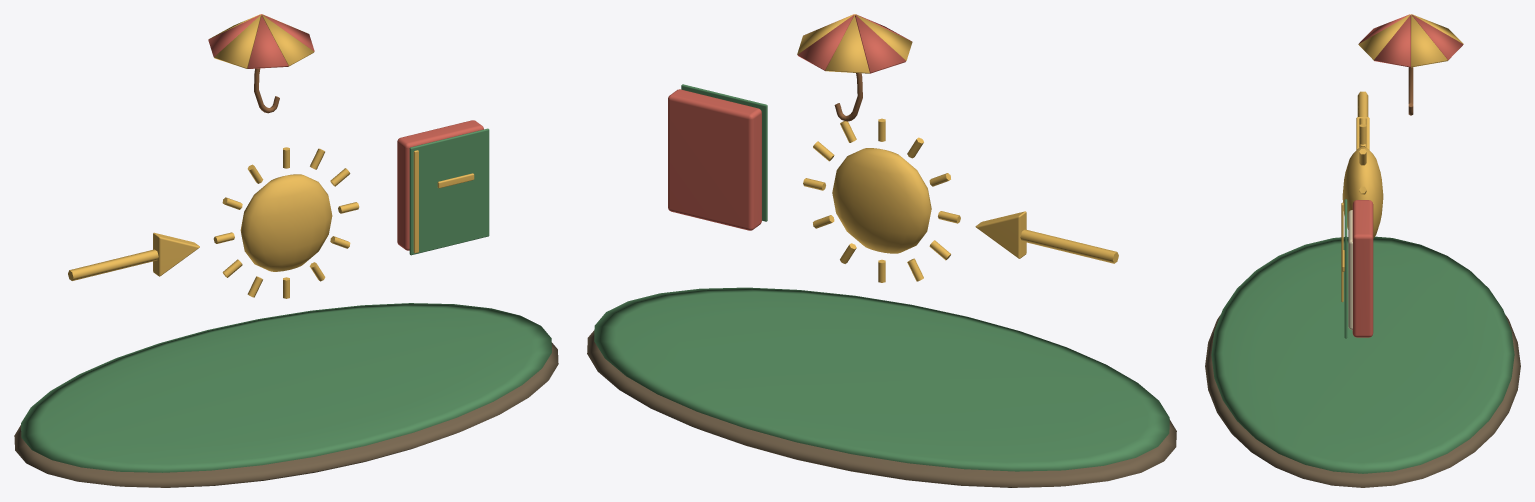
The model's file is complete-third-released-hot-fake-school.glb.
3 renders of one model, left to right at view 1: azimuth 30°, elevation 25°; view 2: azimuth 150°, elevation 25°; view 3: azimuth 270°, elevation 25°, orthographic. The views are drawn at different scales.
Visible parts, largest first — view 1: complete-third-released-hot-fake-school_surface_01, complete-third-released-hot-fake-school_surface_02, complete-third-released-hot-fake-school_surface_00, complete-third-released-hot-fake-school_surface_03; view 2: complete-third-released-hot-fake-school_surface_01, complete-third-released-hot-fake-school_surface_02, complete-third-released-hot-fake-school_surface_03, complete-third-released-hot-fake-school_surface_00; view 3: complete-third-released-hot-fake-school_surface_01, complete-third-released-hot-fake-school_surface_00, complete-third-released-hot-fake-school_surface_02, complete-third-released-hot-fake-school_surface_03, complete-third-released-hot-fake-school_surface_04.
Part boxes in pixels (bbox=[...]): complete-third-released-hot-fake-school_surface_01: bbox=[21, 128, 551, 472]; complete-third-released-hot-fake-school_surface_02: bbox=[68, 14, 474, 298]; complete-third-released-hot-fake-school_surface_00: bbox=[14, 342, 558, 487]; complete-third-released-hot-fake-school_surface_03: bbox=[208, 14, 483, 250]; complete-third-released-hot-fake-school_surface_01: bbox=[594, 84, 1169, 471]; complete-third-released-hot-fake-school_surface_02: bbox=[797, 14, 1118, 282]; complete-third-released-hot-fake-school_surface_03: bbox=[668, 14, 911, 230]; complete-third-released-hot-fake-school_surface_00: bbox=[587, 330, 1176, 487]; complete-third-released-hot-fake-school_surface_01: bbox=[1211, 199, 1514, 473]; complete-third-released-hot-fake-school_surface_00: bbox=[1205, 314, 1520, 487]; complete-third-released-hot-fake-school_surface_02: bbox=[1341, 14, 1463, 302]; complete-third-released-hot-fake-school_surface_03: bbox=[1352, 14, 1463, 337]; complete-third-released-hot-fake-school_surface_04: bbox=[1348, 210, 1352, 329].
Bounding box in the file's own units: 4.56 × 3.2 × 2.5.
